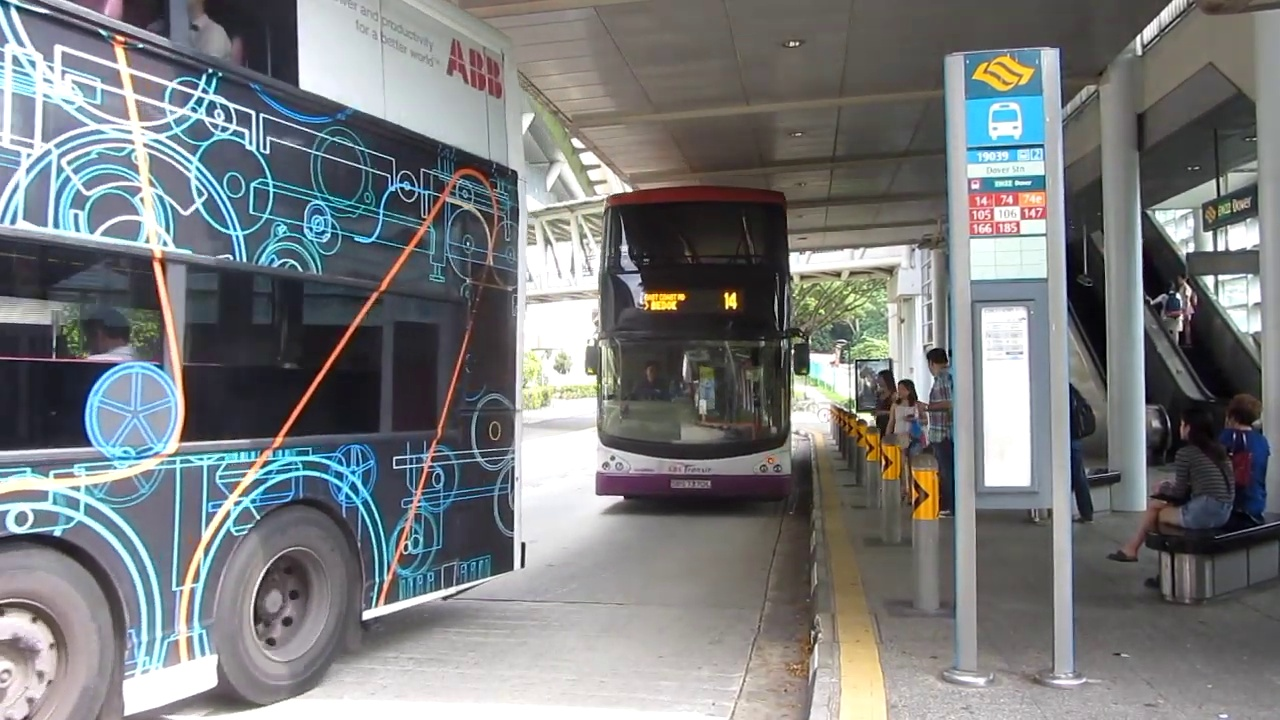bus panel: (639, 287, 746, 316)
